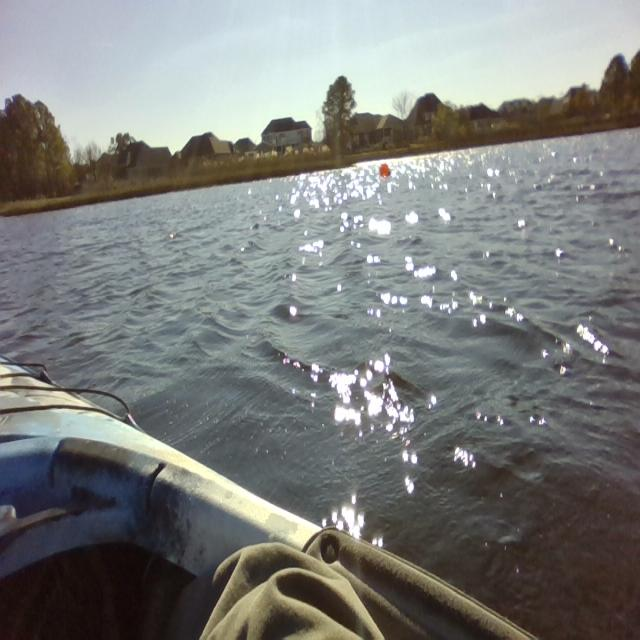Buoy: (374, 157, 396, 186)
